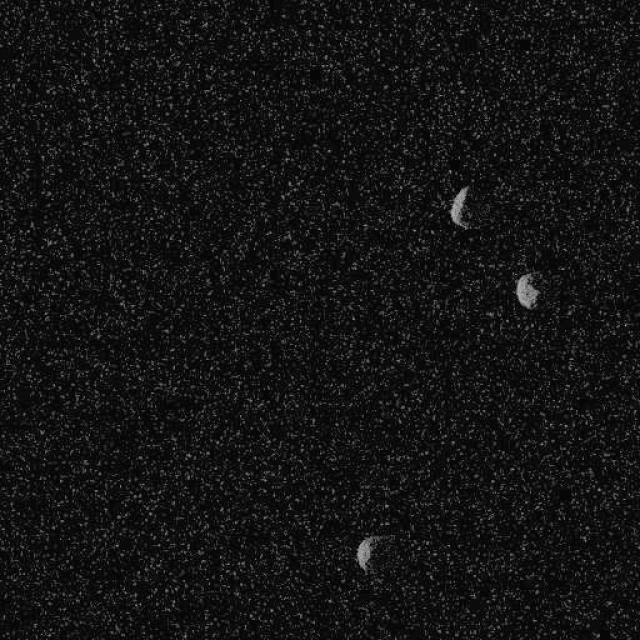D2: (514, 270, 541, 310), (448, 184, 472, 228), (355, 535, 375, 574)
